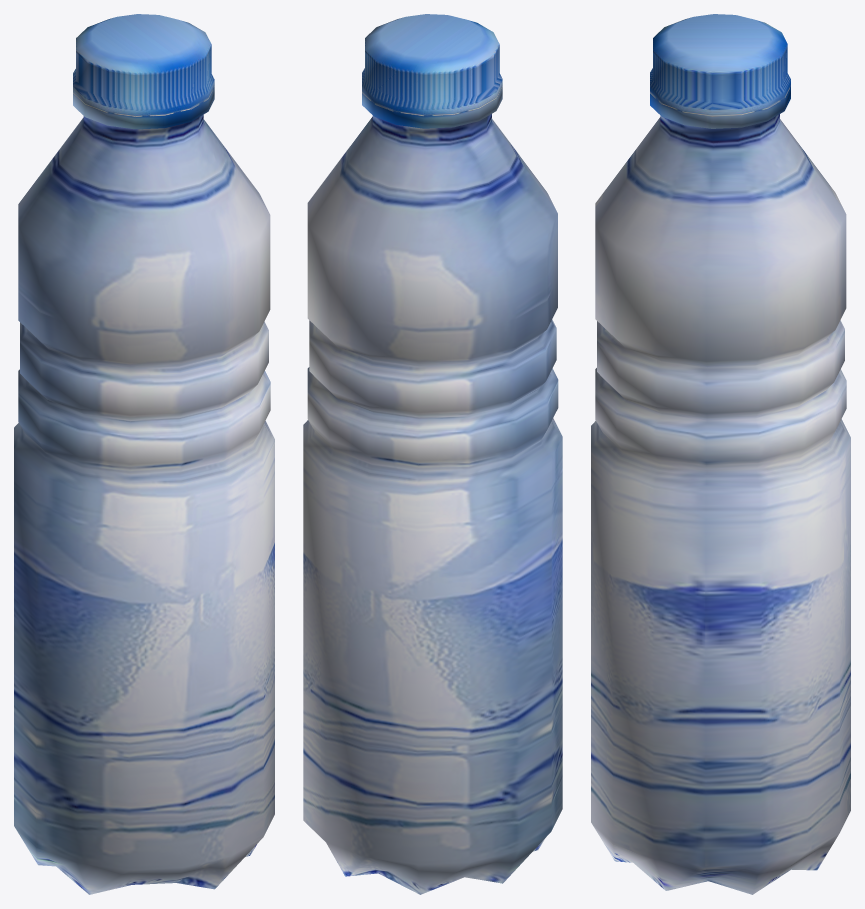
Rendered from Bottledwater.glb.
The picture shows the model from 3 angles, left to right: view 1: azimuth 30°, elevation 25°; view 2: azimuth 150°, elevation 25°; view 3: azimuth 270°, elevation 25°; orthographic projection.
Visible parts, largest first — view 1: Cylinder; view 2: Cylinder; view 3: Cylinder.
Boxes of the visible parts, x1,y1,x2,y2 form: Cylinder: (14, 14, 274, 894); Cylinder: (303, 14, 562, 894); Cylinder: (591, 14, 850, 894).
Size of the model in its own units: 1.99 by 6.86 by 1.98.
1 material, 1 textured.
